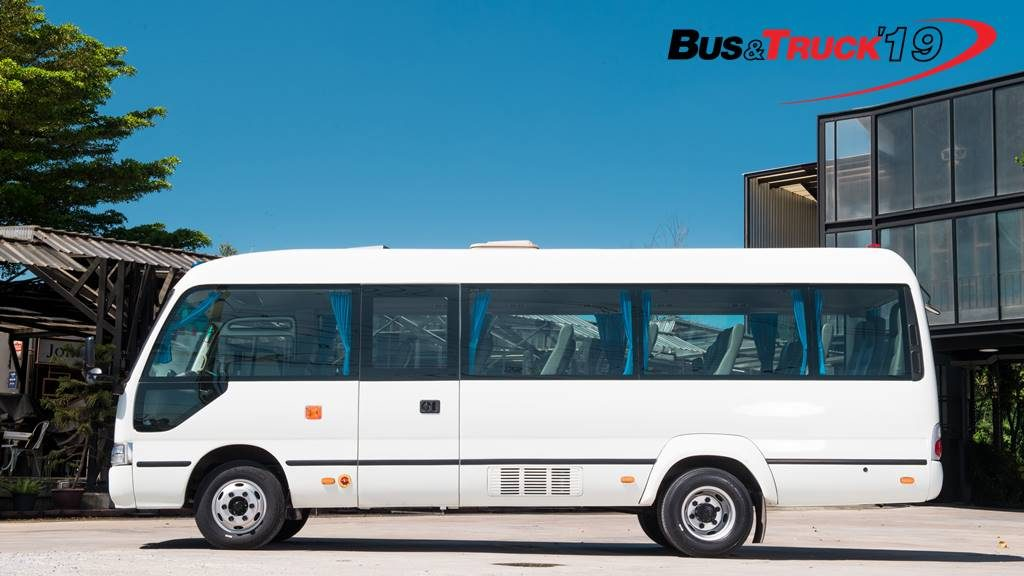bus: (108, 243, 947, 558)
